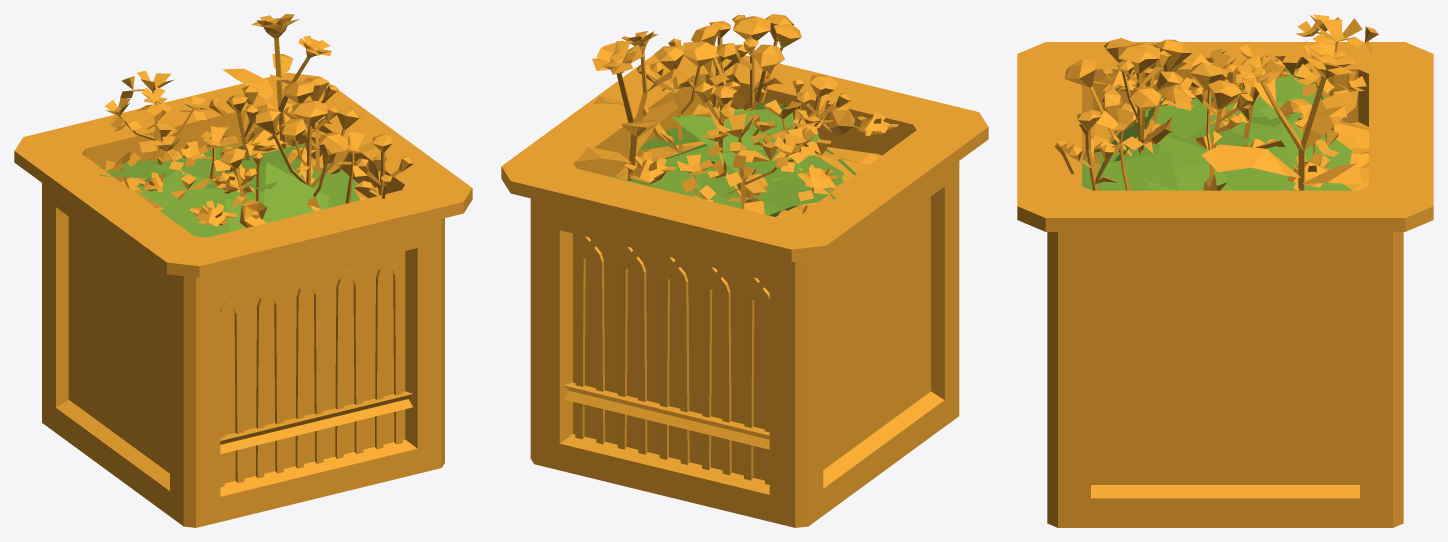
File: SM_City_Planter_Street_C_Filled.fbx
The picture shows the model from 3 angles, left to right: view 1: azimuth 30°, elevation 25°; view 2: azimuth 150°, elevation 25°; view 3: azimuth 270°, elevation 25°; orthographic projection. The views are drawn at different scales.
Parts seen in each view (by area): view 1: SM_City_Planter_Street_C_Filled; view 2: SM_City_Planter_Street_C_Filled; view 3: SM_City_Planter_Street_C_Filled.
Part boxes in pixels (box(x1,y1,x2,y2)): SM_City_Planter_Street_C_Filled: box(14, 14, 472, 527); SM_City_Planter_Street_C_Filled: box(501, 14, 988, 527); SM_City_Planter_Street_C_Filled: box(1017, 14, 1433, 527).
Bounding box in the file's own units: 1.17 × 1.39 × 1.17.
